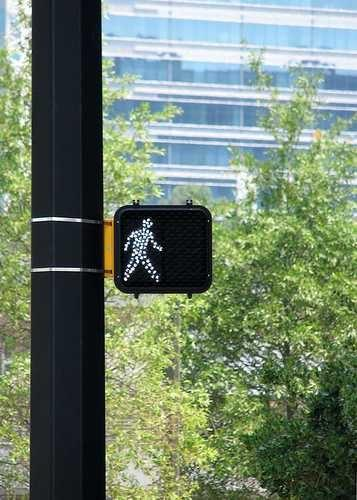green: (112, 196, 214, 299)
